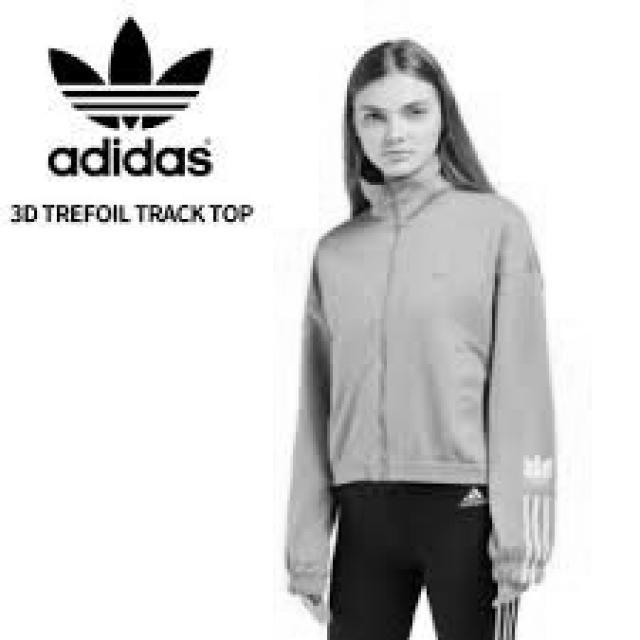Adidas: (37, 6, 230, 146)
